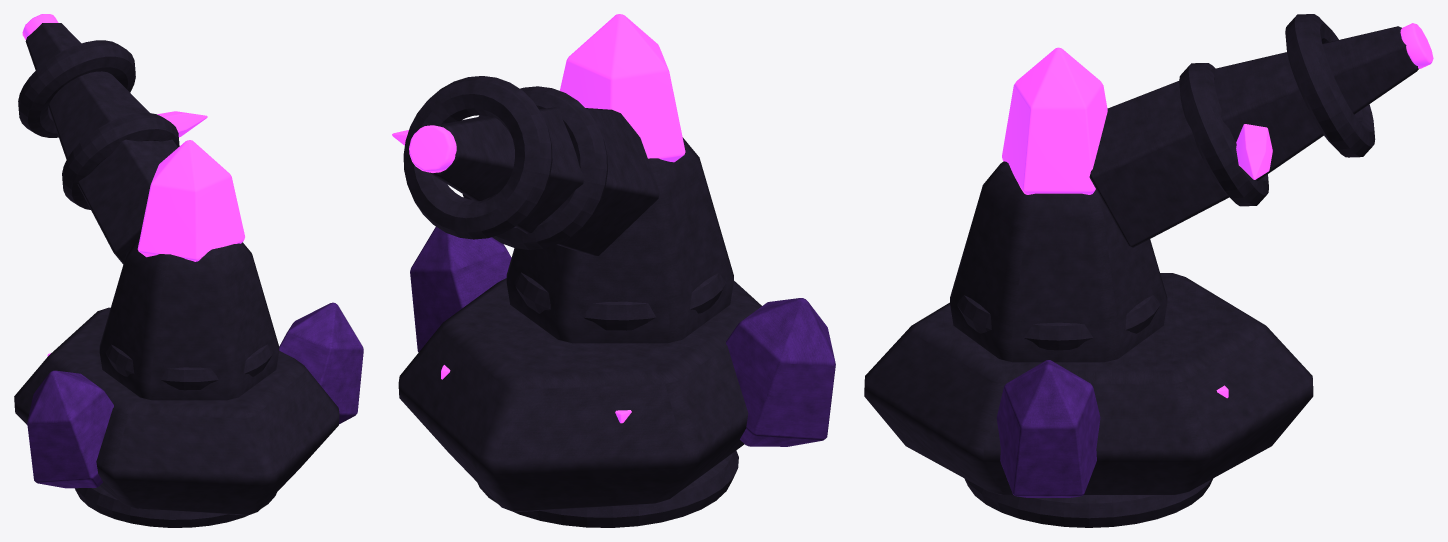
Rendered from conclave_obelisque.gltf.
3 renders of one model, left to right at view 1: azimuth 30°, elevation 25°; view 2: azimuth 150°, elevation 25°; view 3: azimuth 270°, elevation 25°, orthographic. The views are drawn at different scales.
Parts seen in each view (by area): view 1: Body.002_Geometry, TurretYaw.002_Geometry, GunRecoil.002_Geometry; view 2: Body.002_Geometry, TurretYaw.002_Geometry, GunRecoil.002_Geometry; view 3: Body.002_Geometry, TurretYaw.002_Geometry, GunRecoil.002_Geometry.
Boxes of the visible parts, x1,y1,x2,y2 form: Body.002_Geometry: [14, 302, 363, 527]; TurretYaw.002_Geometry: [99, 140, 279, 400]; GunRecoil.002_Geometry: [18, 14, 207, 264]; Body.002_Geometry: [398, 226, 835, 527]; TurretYaw.002_Geometry: [506, 14, 733, 343]; GunRecoil.002_Geometry: [392, 76, 659, 256]; Body.002_Geometry: [864, 273, 1313, 527]; TurretYaw.002_Geometry: [950, 47, 1167, 362]; GunRecoil.002_Geometry: [1089, 14, 1433, 247].
Size of the model in its own units: 1.8 by 2.01 by 2.26.
Materials: 3 (2 with a texture image).
